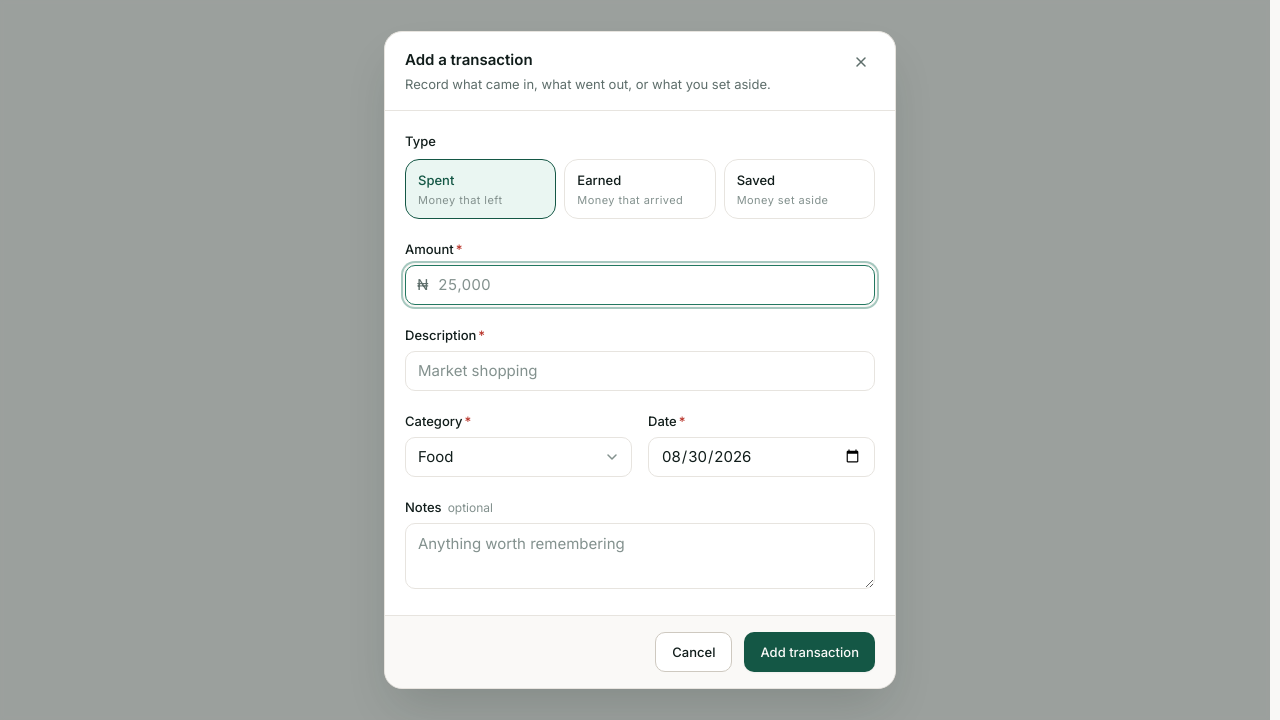
TransactionFormModal › announces validation errors to a screen reader
What coordinates should you click on to do the following:
click the button "Add transaction"
I would click on:
 (810, 652)
Its box is [744, 632, 875, 672].
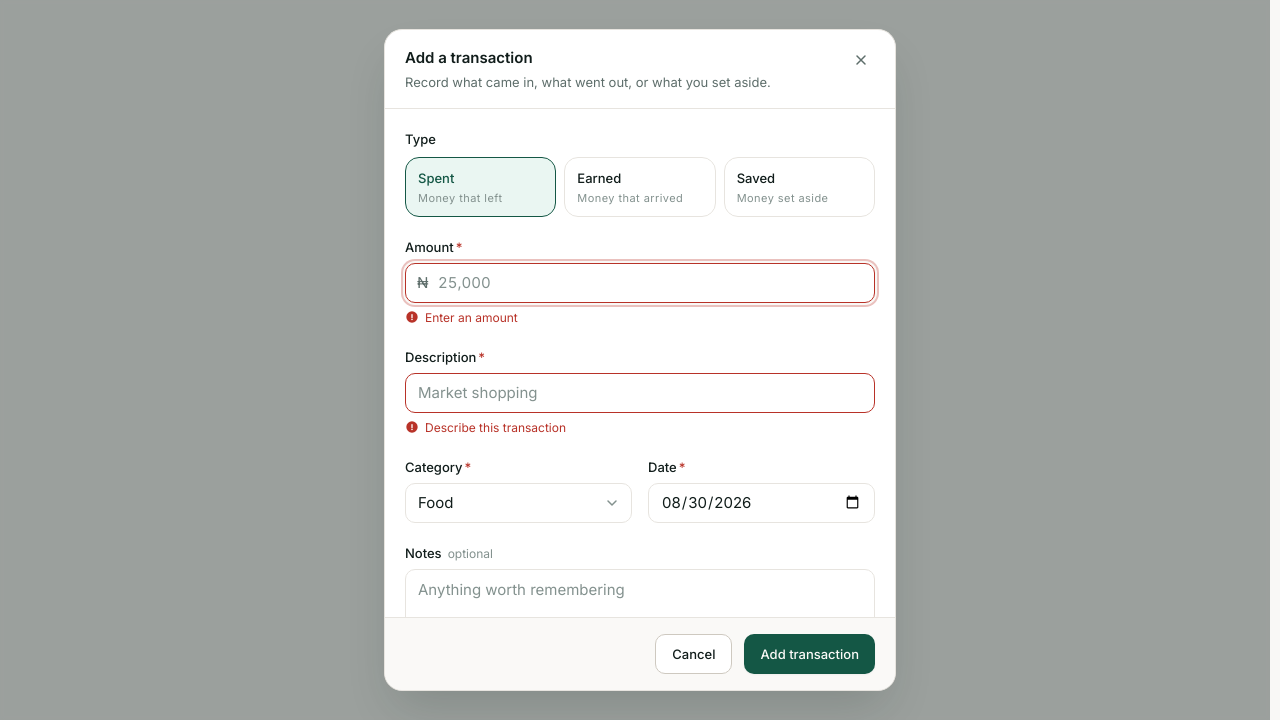
Check: the message "Enter an amount" is shown, box [405, 310, 518, 325]
